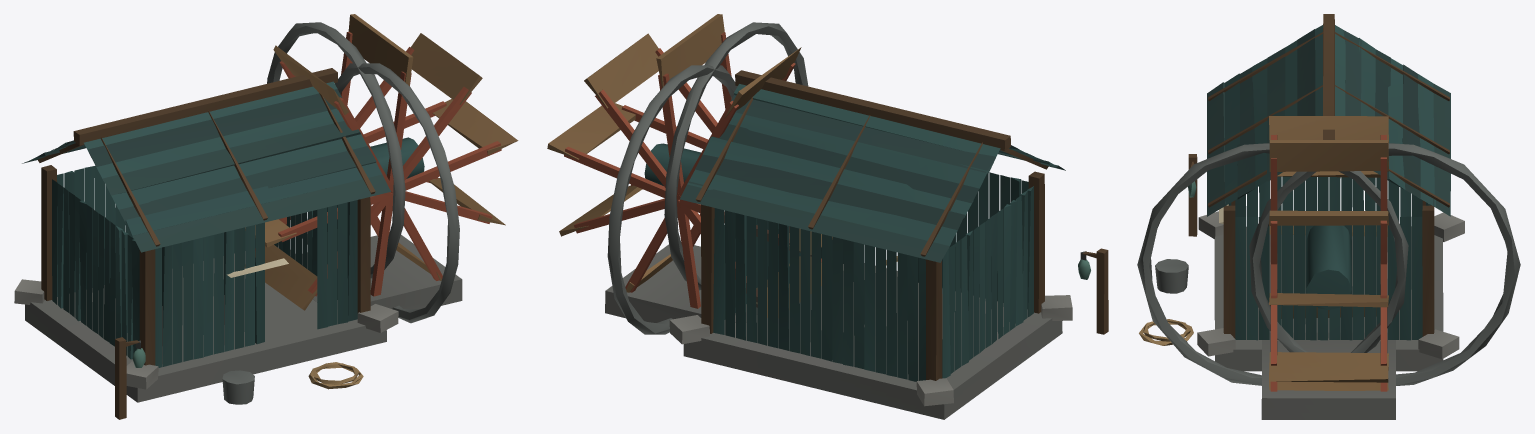
The model's file is sluice_shed_a_lod2.glb.
3 views of the same model, side by side, from view 1: azimuth 30°, elevation 25°; view 2: azimuth 150°, elevation 25°; view 3: azimuth 270°, elevation 25° (orthographic). The views are drawn at different scales.
Parts seen in each view (by area): view 1: Surface.001; view 2: Surface.001; view 3: Surface.001.
Boxes of the visible parts, x1,y1,x2,y2 form: Surface.001: (14,14,518,419); Surface.001: (547,14,1108,419); Surface.001: (1137,14,1520,419).
Bounding box in the file's own units: 9.8 × 5.62 × 7.33.
